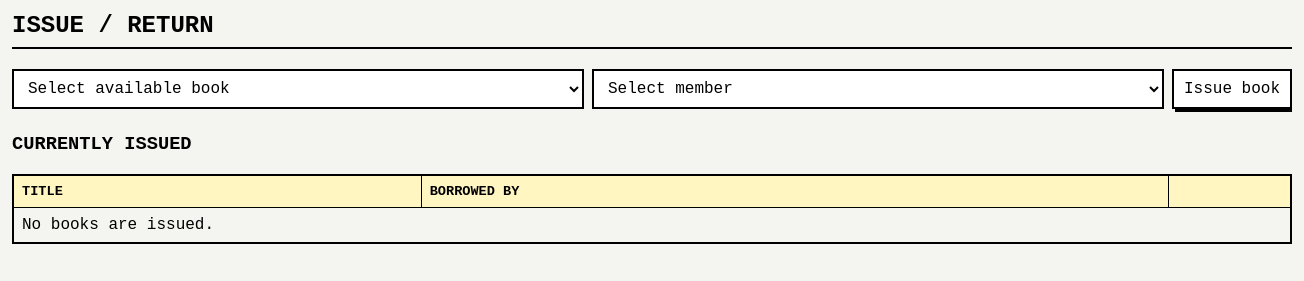
it: BorrowPage › issues a book to a member
Select "Clean Code" in the dropdown named "Book" at (298, 89), box [12, 69, 584, 109]
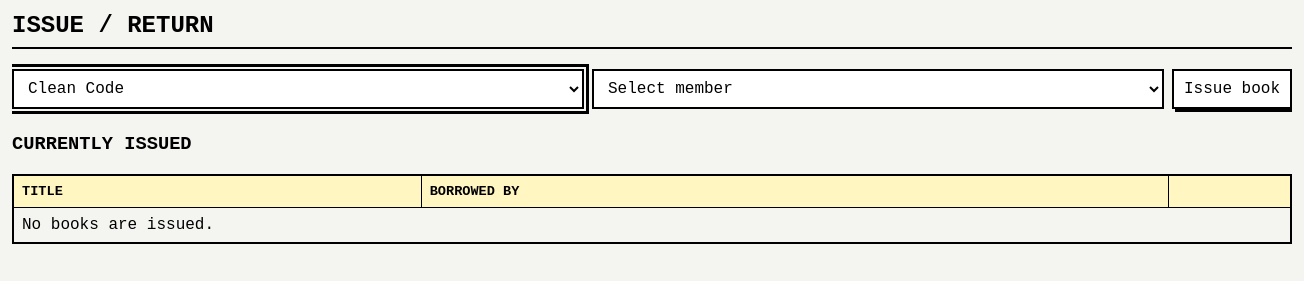
Select "Asha Rao (STUDENT)" in the dropdown named "Member" at (878, 89), box [592, 69, 1164, 109]
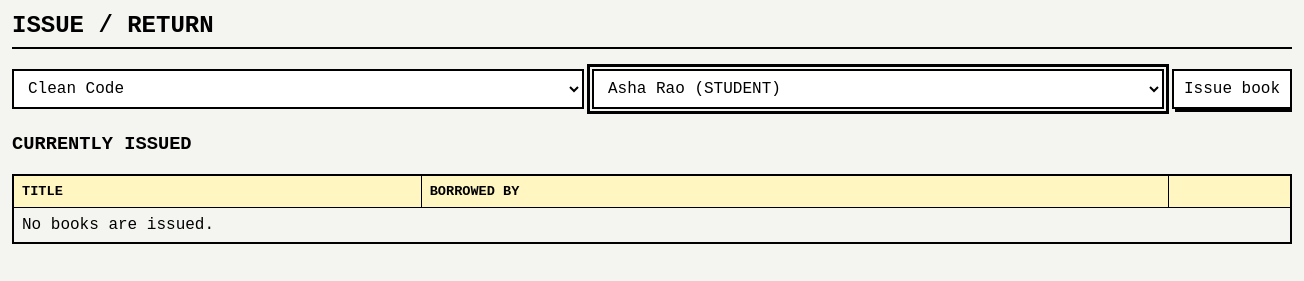
Click the button "Issue book" at (1232, 89), box [1172, 69, 1292, 109]
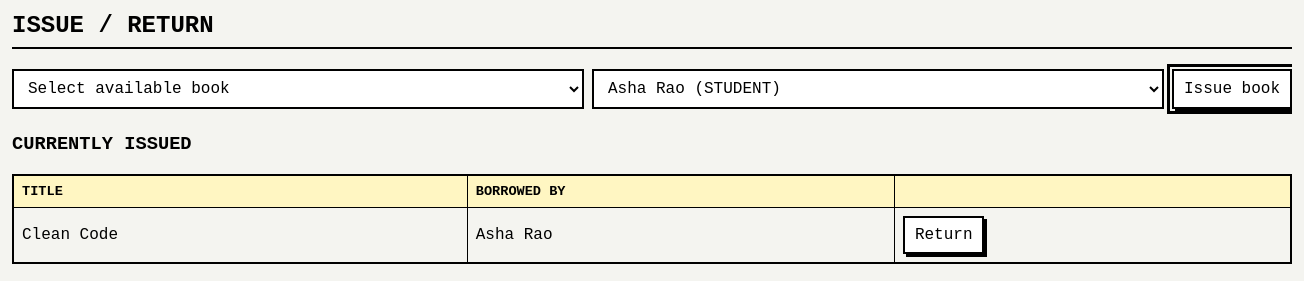
Now the button "Return" is shown, box [903, 216, 984, 254]
